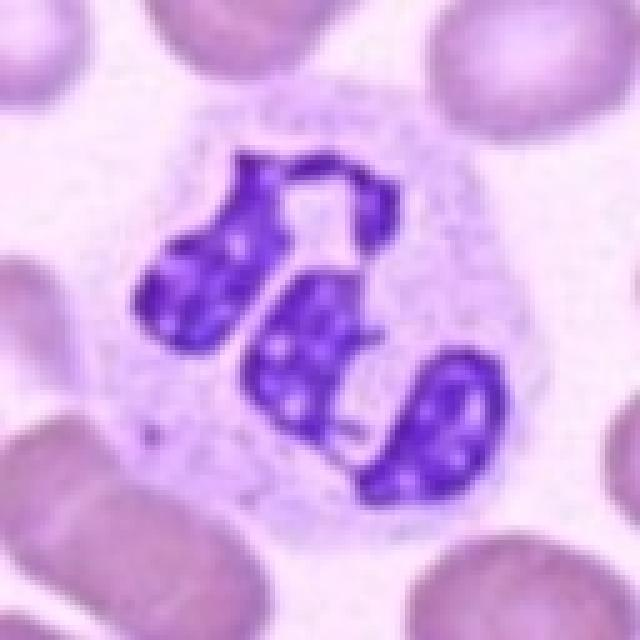neutro: (105, 92, 557, 525)
